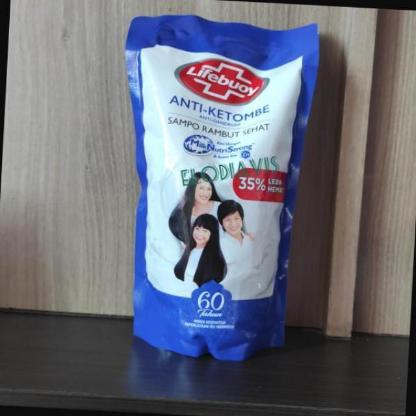Plastic Packaging: (124, 16, 320, 362)
